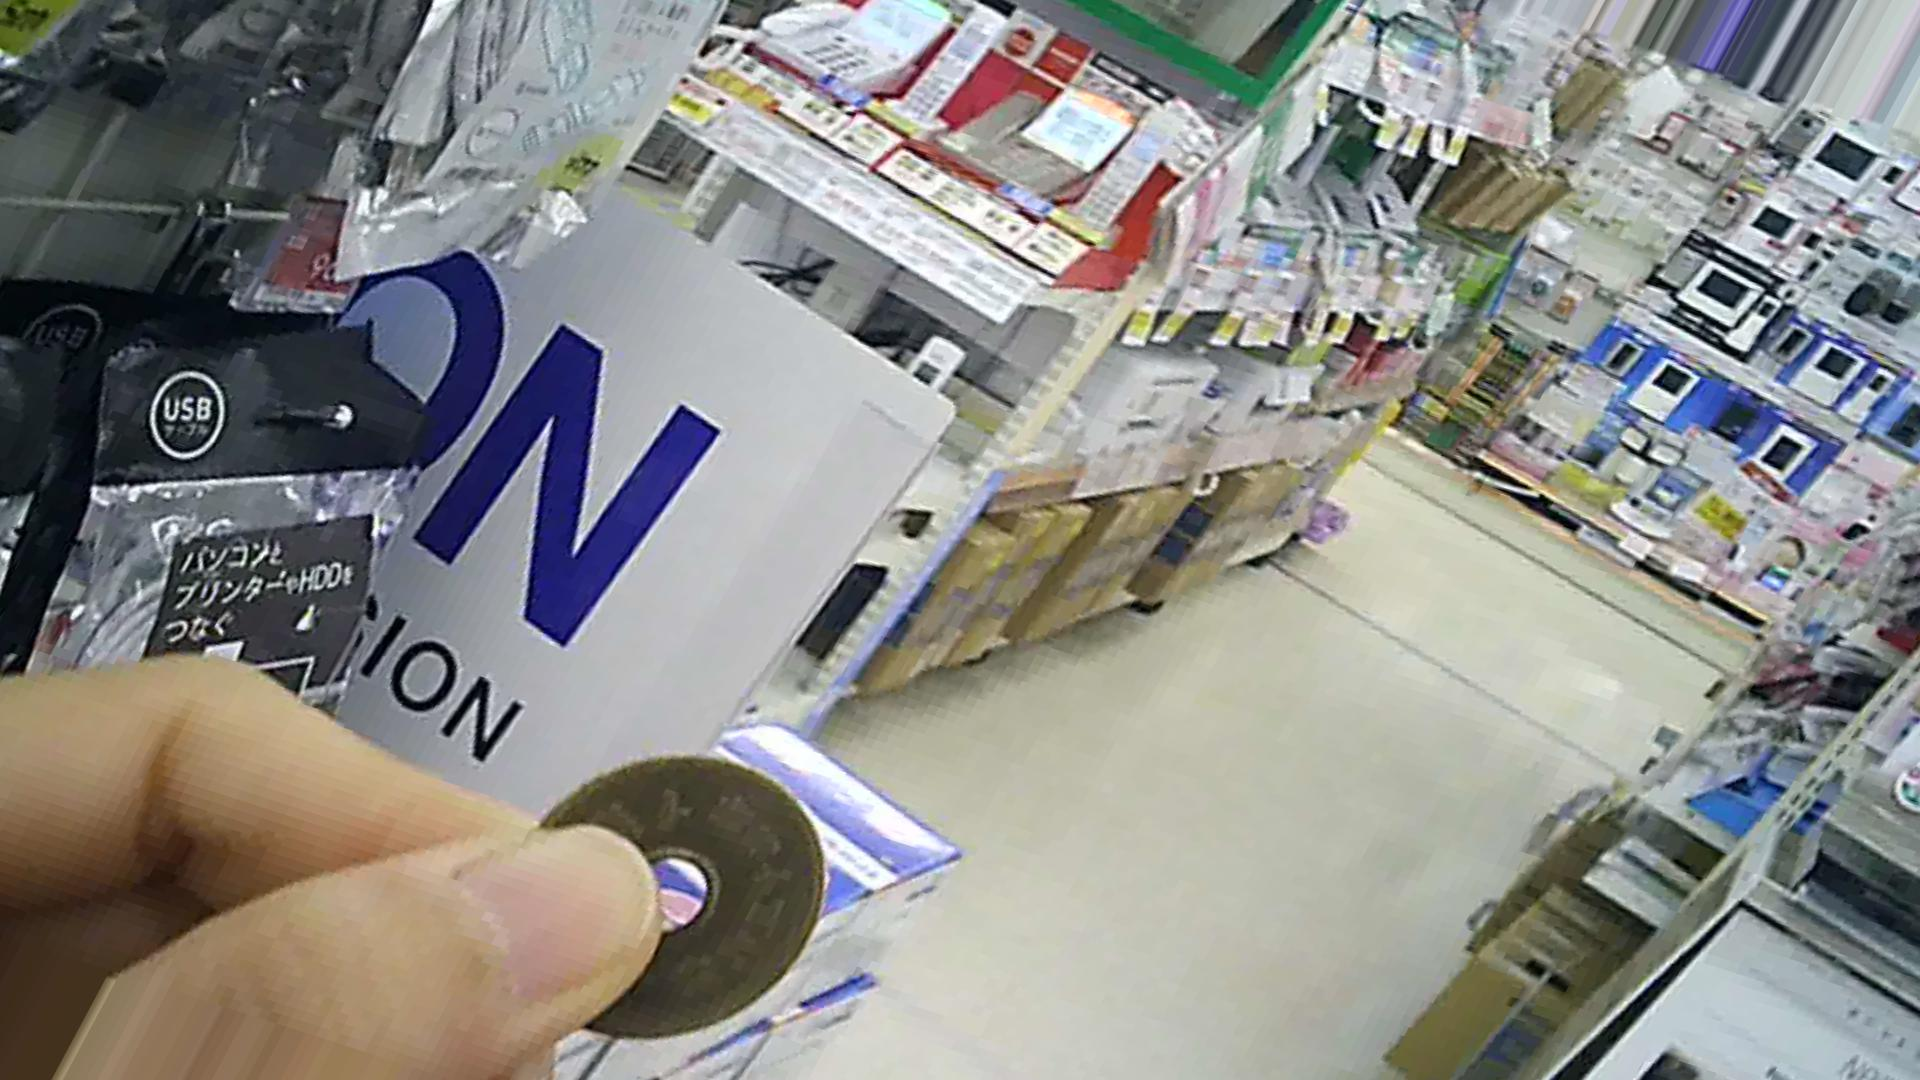5 Yen: (496, 752, 806, 1019)
